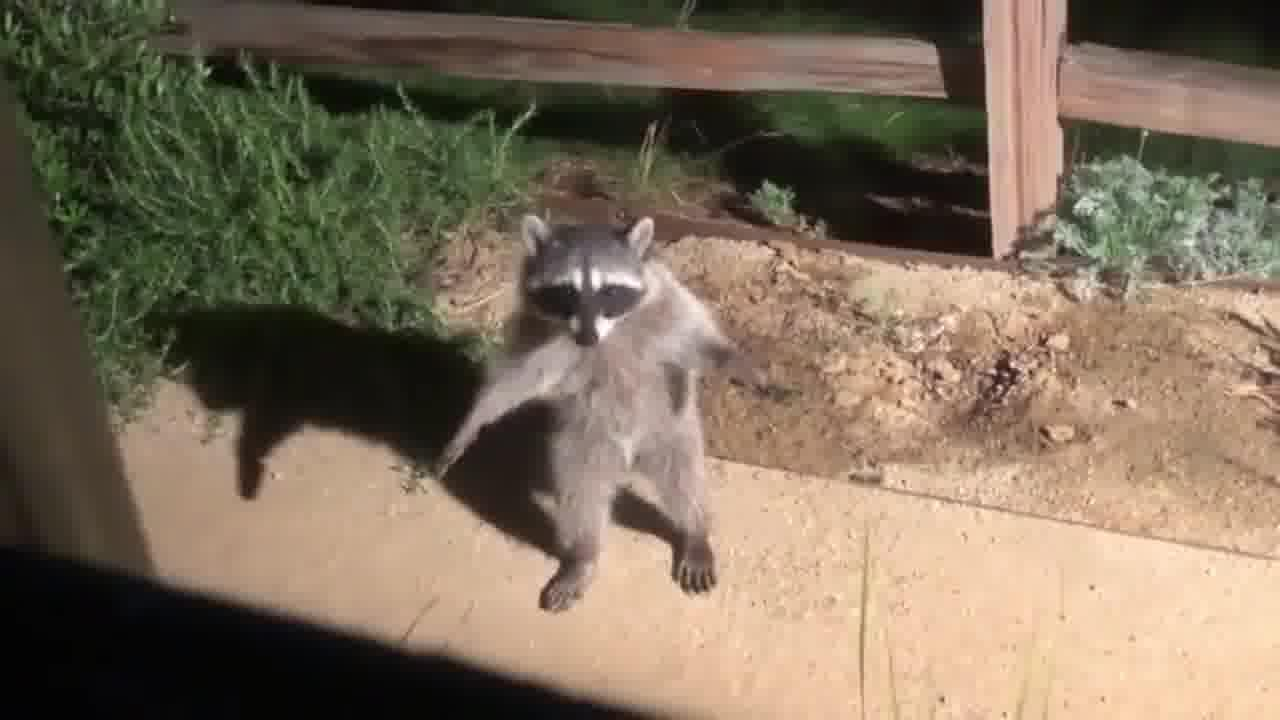raccoon: (405, 207, 810, 633)
